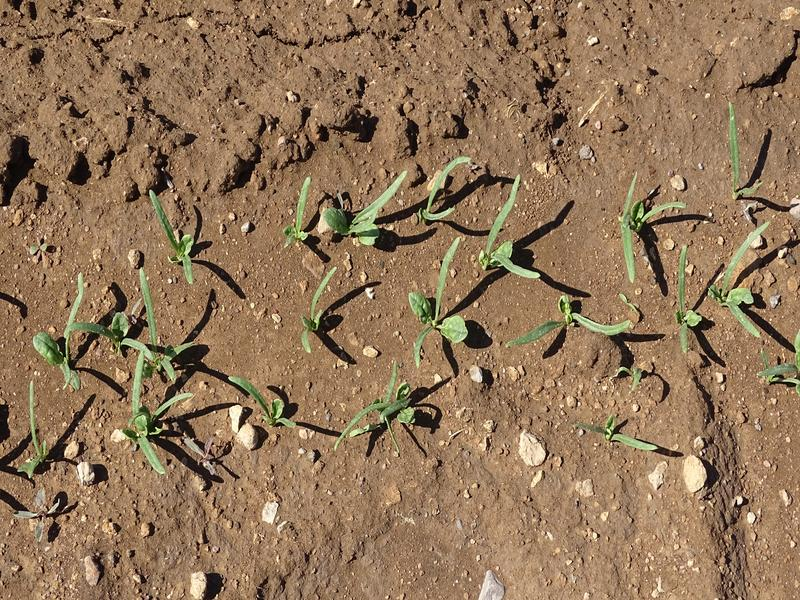Espinaca: (275, 172, 796, 466), (16, 194, 216, 484)
